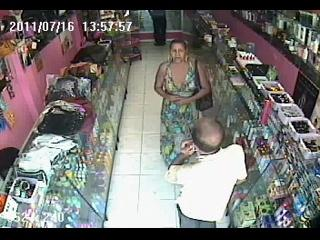Normal: (164, 117, 248, 227), (154, 39, 212, 167), (194, 60, 213, 112), (148, 10, 167, 46)
